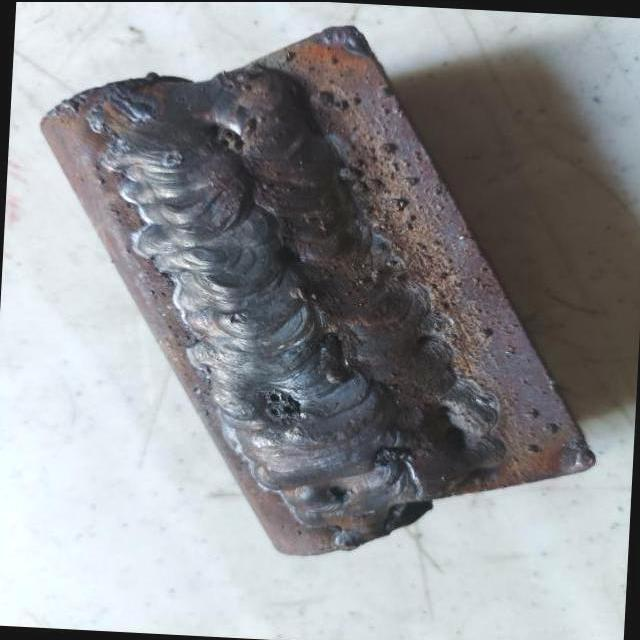defect: (199, 119, 254, 157), (254, 386, 305, 424), (370, 444, 423, 469), (324, 481, 359, 503), (272, 242, 302, 265), (159, 150, 183, 167)
